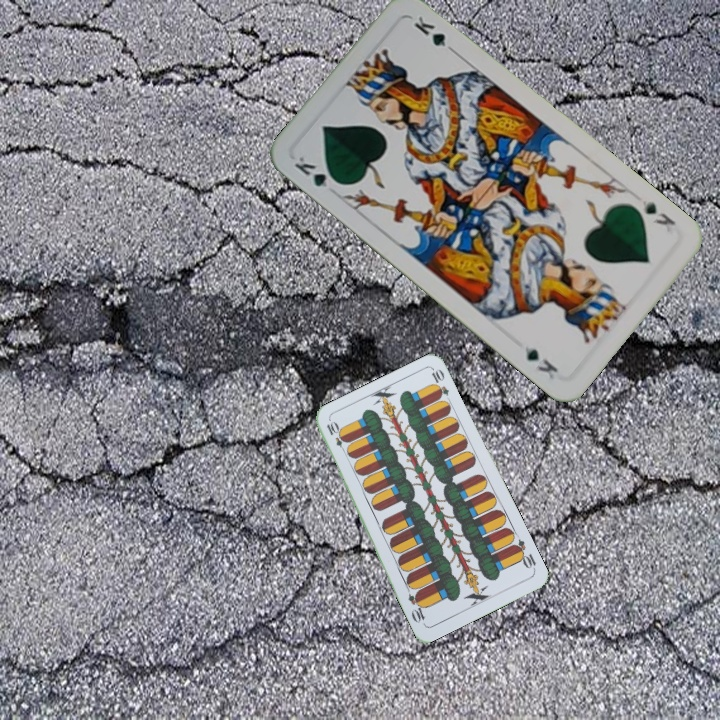E10: (509, 535, 539, 573), (322, 418, 350, 456)
GK: (290, 152, 344, 190), (638, 195, 678, 229)
